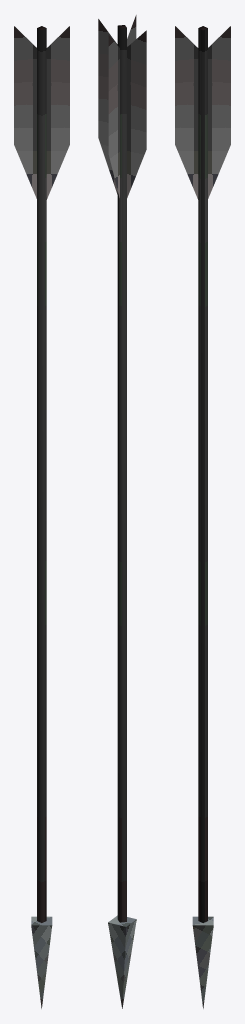
Rendered from arrow.FBX.
3 renders of one model, left to right at view 1: azimuth 90°, elevation 25°; view 2: azimuth 150°, elevation 25°; view 3: azimuth 270°, elevation 25°, orthographic.
Parts seen in each view (by area): view 1: arrow; view 2: arrow; view 3: arrow.
Part boxes in pixels (left/top/right/bottom): arrow: left=14, top=26, right=69, bottom=1008; arrow: left=98, top=15, right=146, bottom=1008; arrow: left=175, top=26, right=230, bottom=1008.
Size of the model in its own units: 8.72 by 169 by 8.72.
